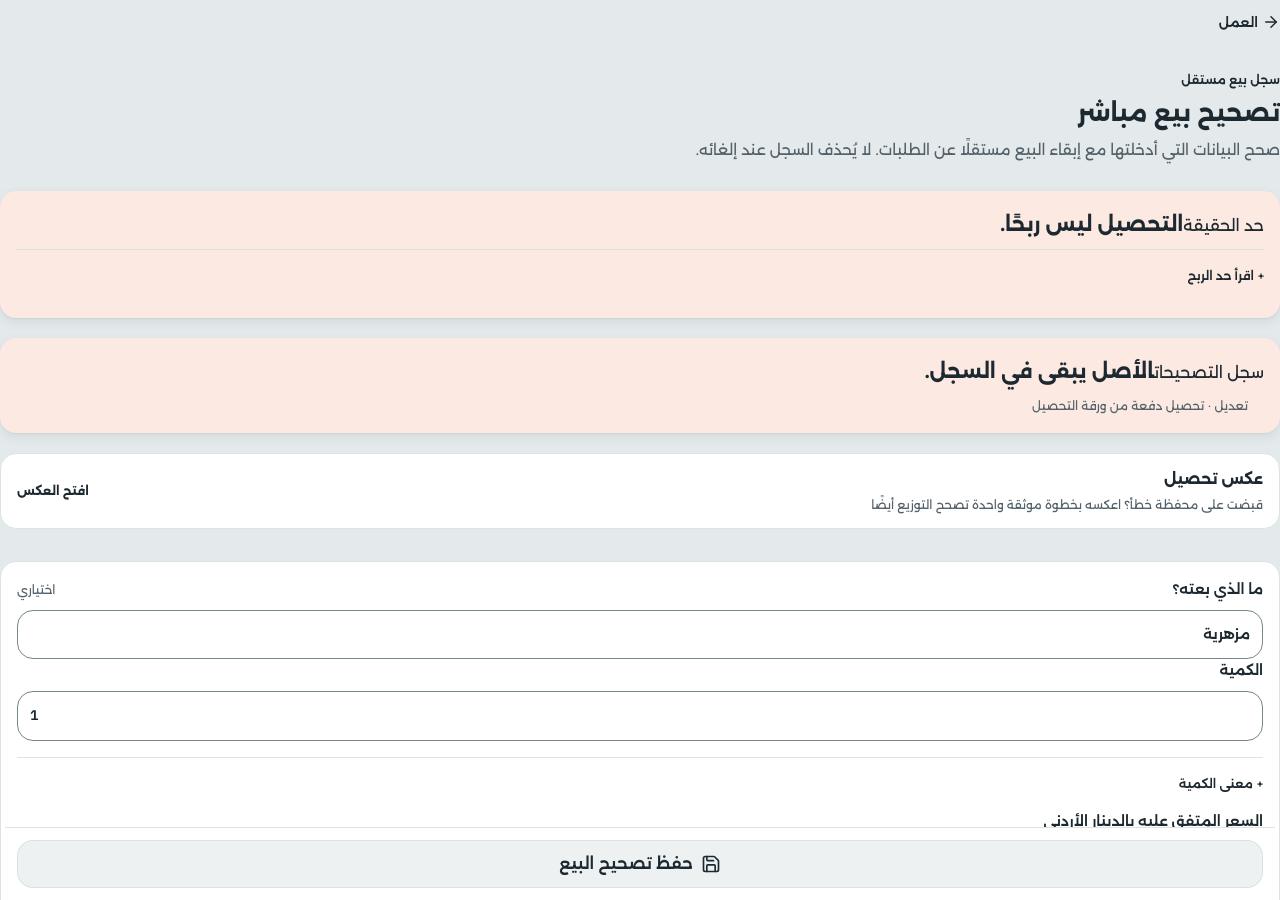
Scenario: EXE-010 — sale collection reversal surface in DirectSaleEditor › lists the wallet-attributed collection with an honest preview and reverses in one documented step
Click the text "عكس تحصيل" at (1214, 478), box top-left (1164, 469), bottom-right (1263, 488)
(page scrolled)
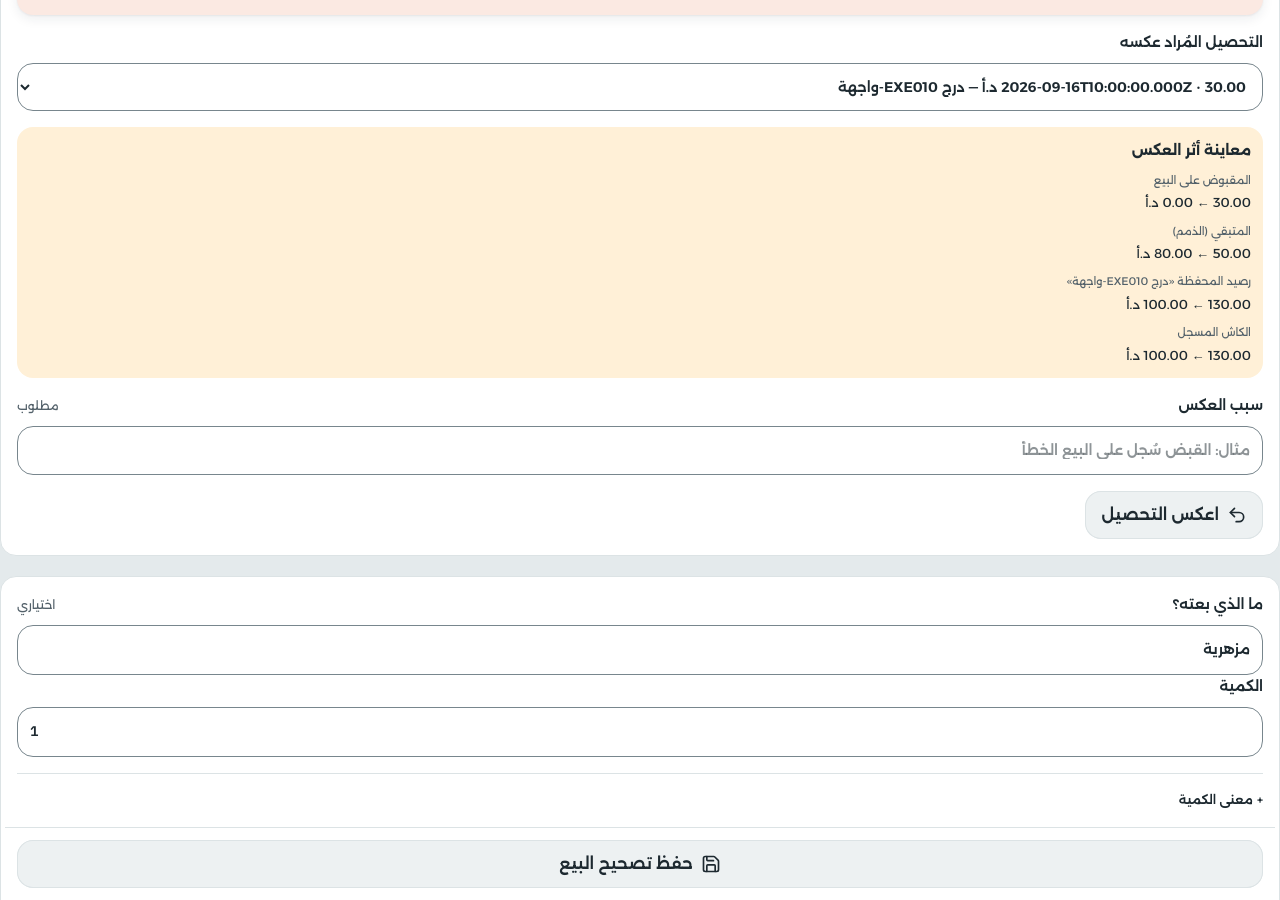
Check: the element with test id "sale-reversal-preview" is shown, box top-left (17, 127), bottom-right (1263, 378)
Check: the text "معاينة أثر العكس" is shown, box top-left (1132, 141), bottom-right (1251, 159)
Type "القبض سُجل على البيع الخطأ" into the field labelled "سبب العكس مطلوب" at (640, 451), box top-left (17, 426), bottom-right (1263, 476)
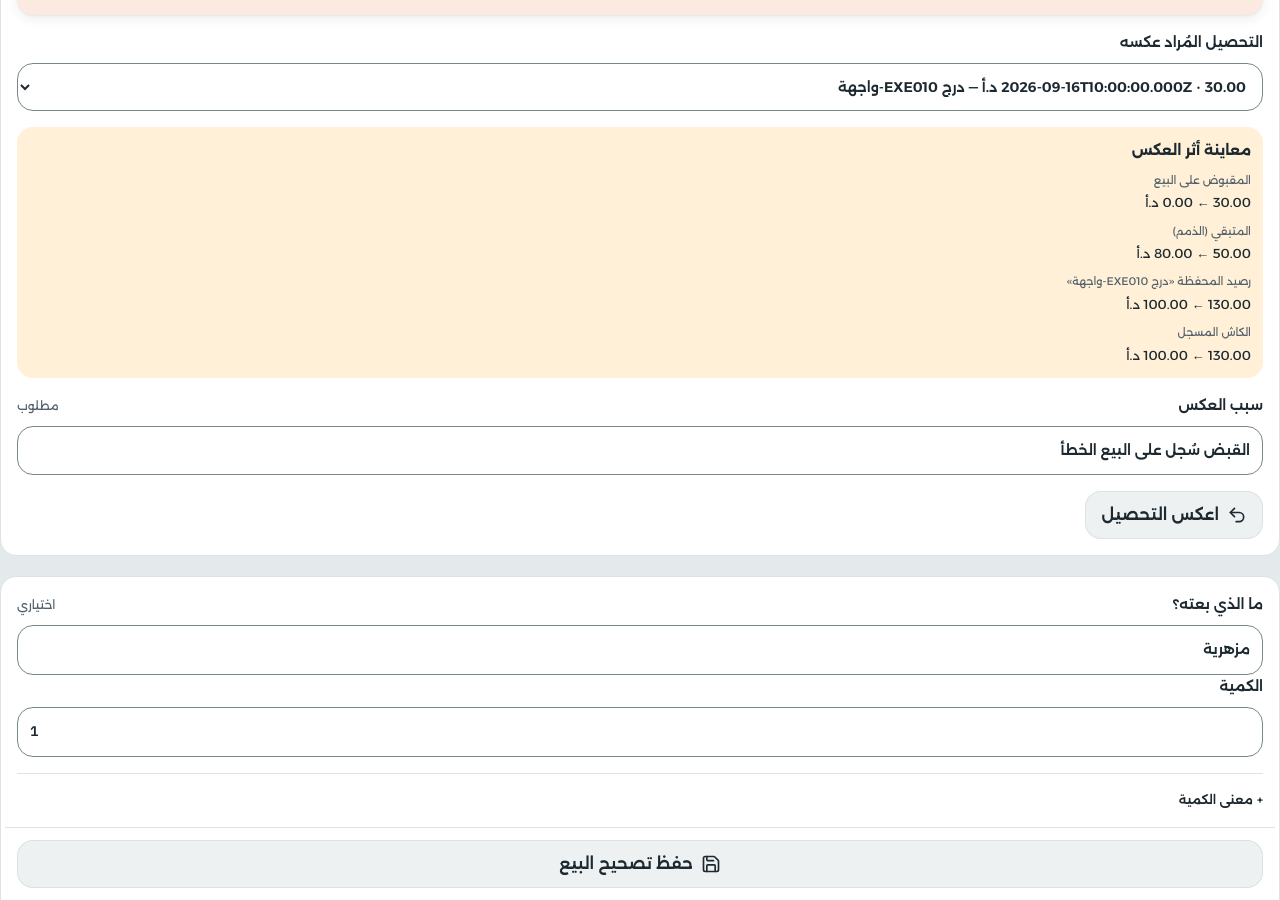
Click the button "اعكس التحصيل" at (1174, 516), box top-left (1086, 492), bottom-right (1263, 540)
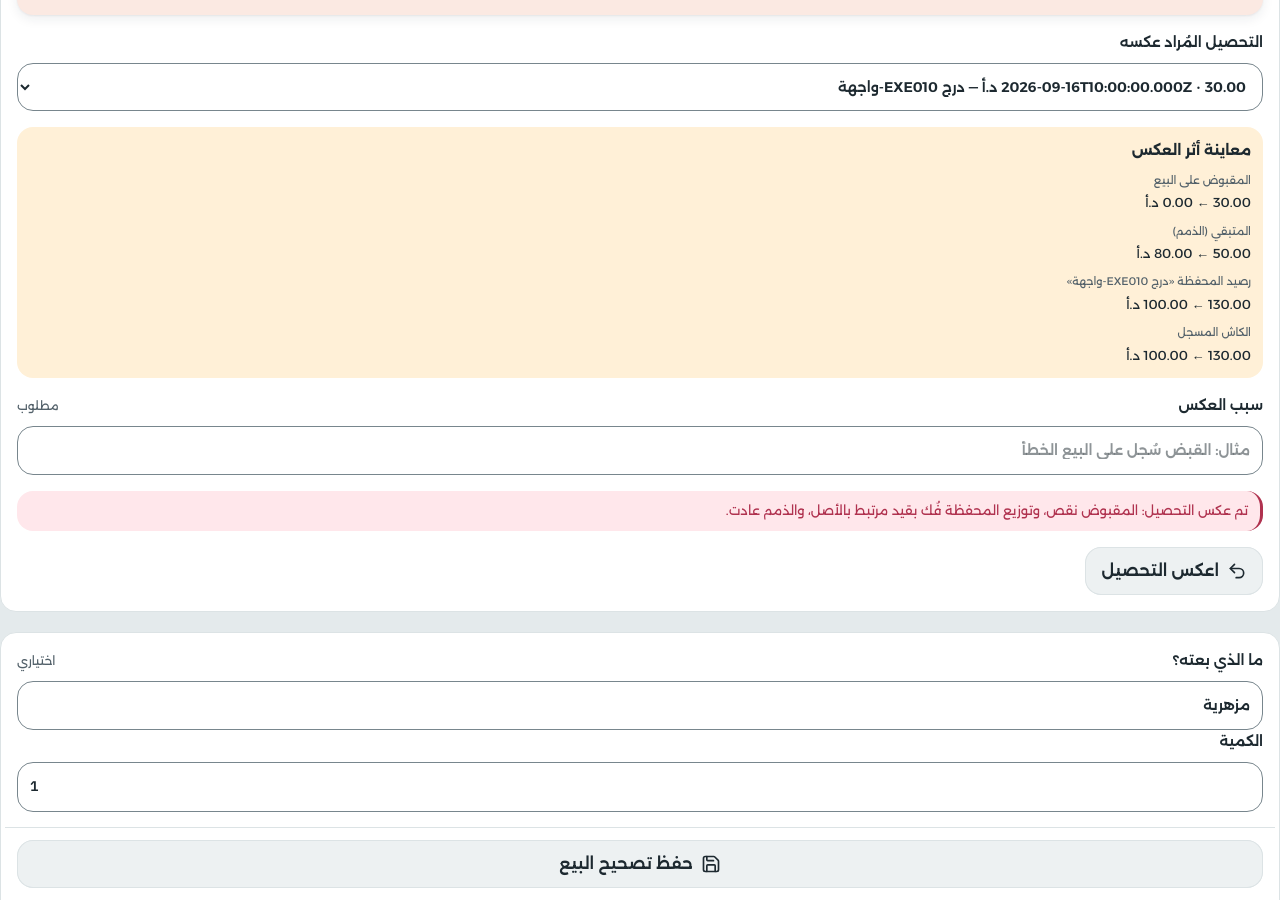
Check: the text "تم عكس التحصيل" is shown, box top-left (726, 502), bottom-right (1248, 518)
